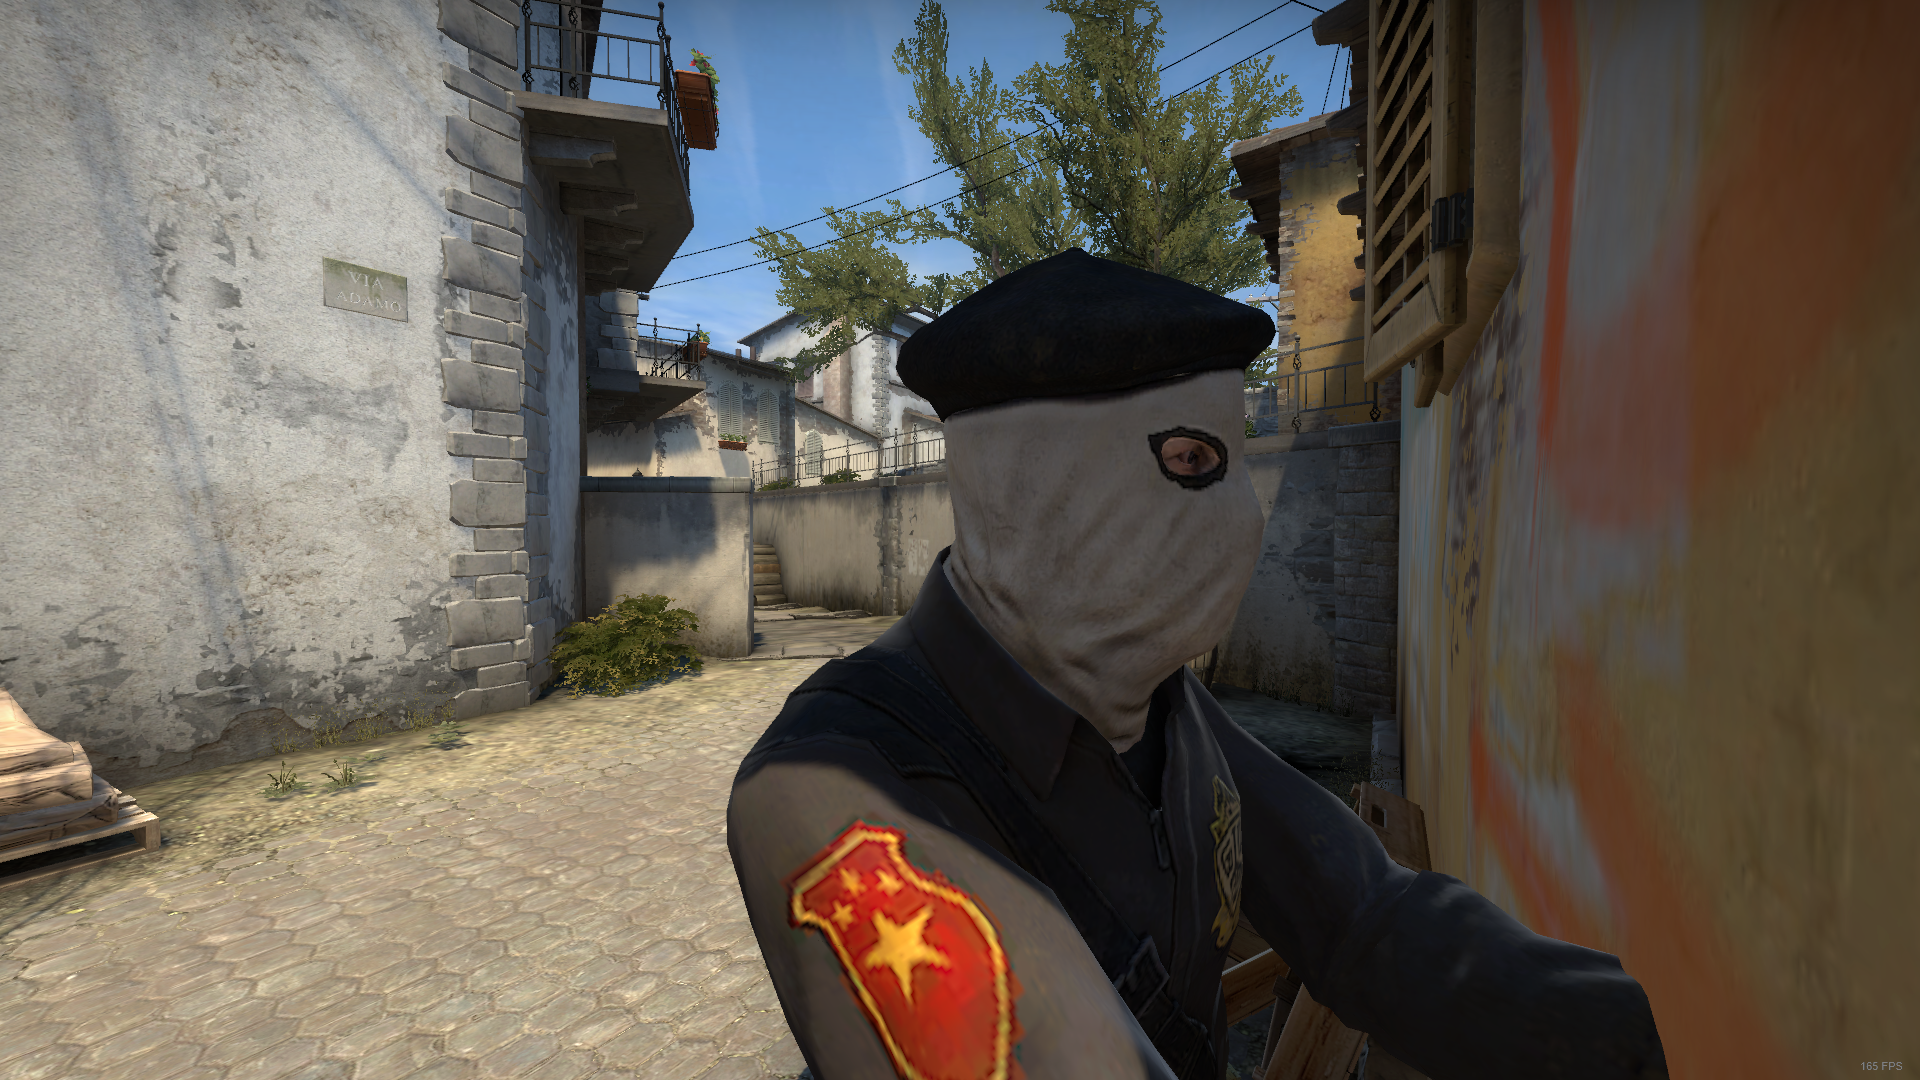t: (669, 247, 1675, 1080)
